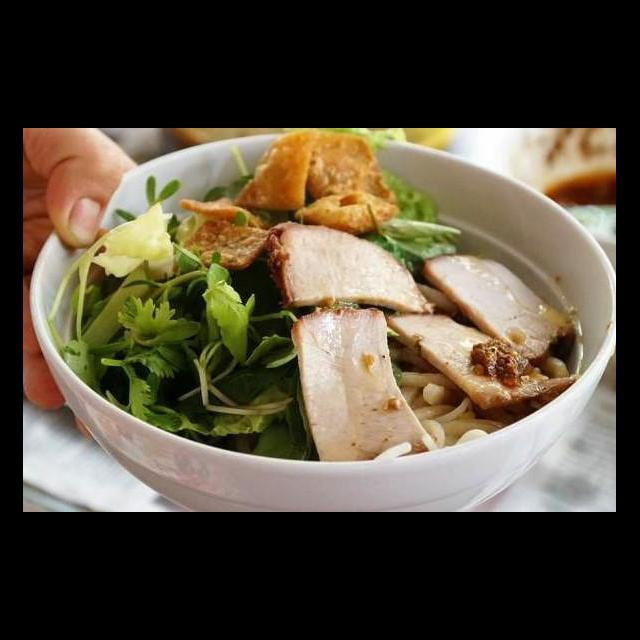banh da: (240, 424, 410, 512), (362, 366, 464, 444), (238, 401, 350, 453)
mi: (128, 186, 248, 273)
mi quang: (46, 166, 616, 512)
thit heo: (200, 173, 350, 339), (54, 227, 260, 330), (202, 319, 378, 423), (63, 274, 218, 391)
